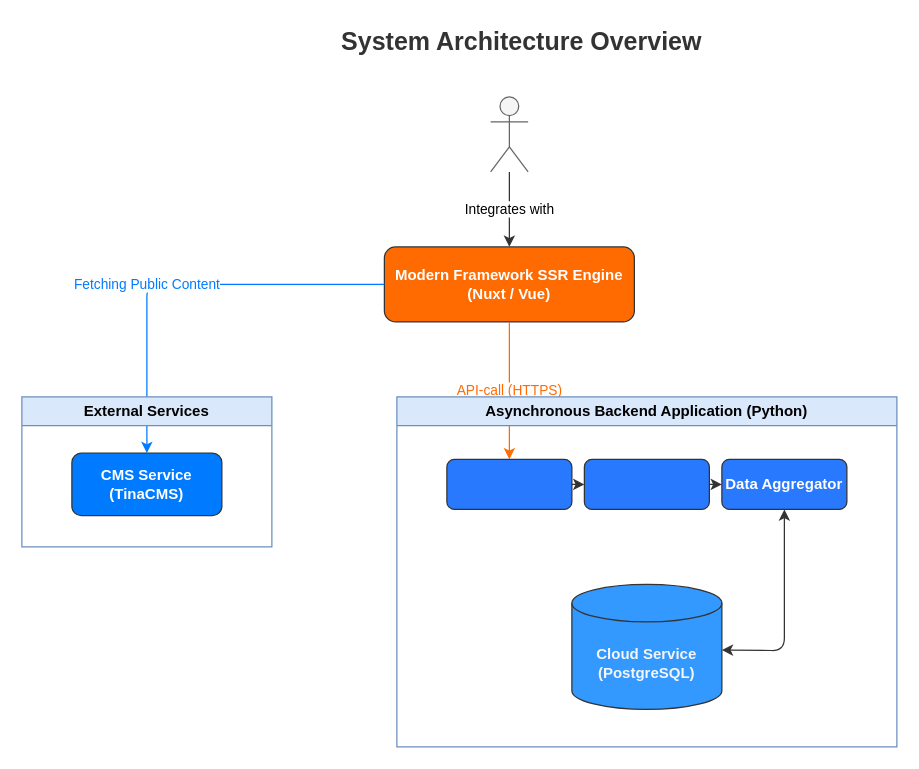
Some shapes in this 919 by 769 pixel diagram are drawn without their labels. Each missing label, with the centre of its shape:
API Endpoints: pixel 509 483
Authentication Layer: pixel 646 483
User: pixel 508 134
